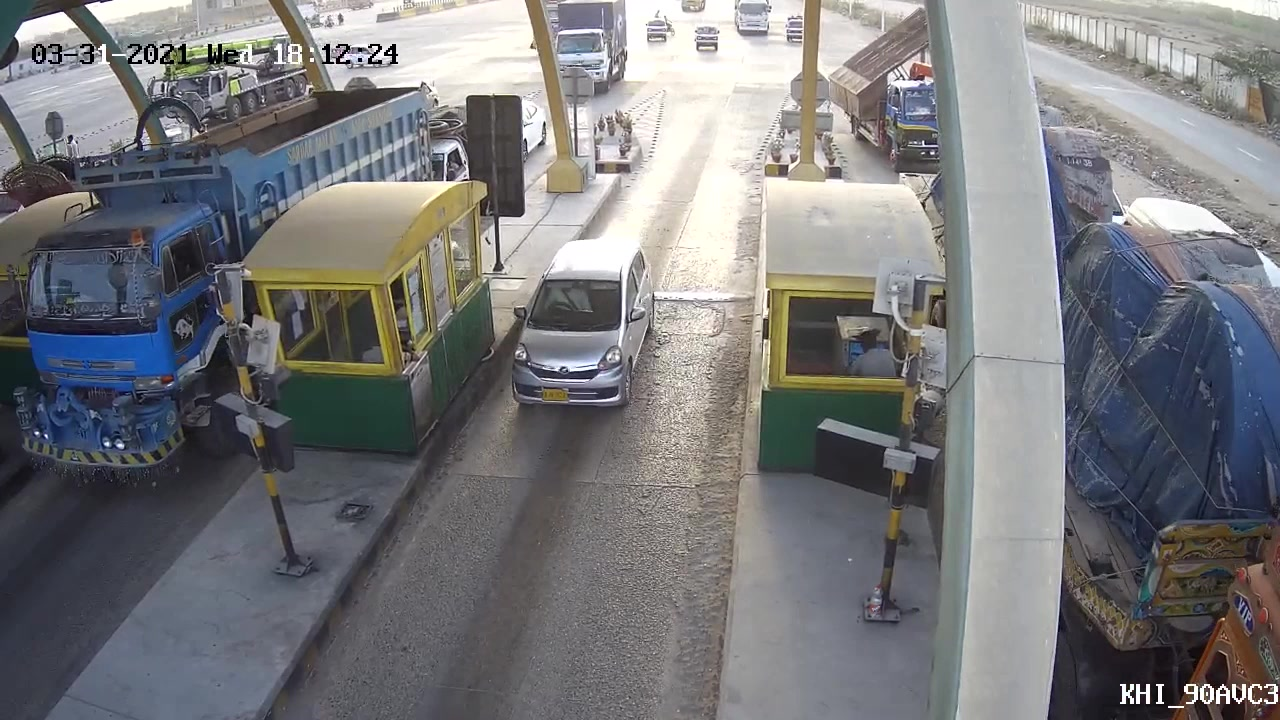F1: (500, 234, 664, 415)
